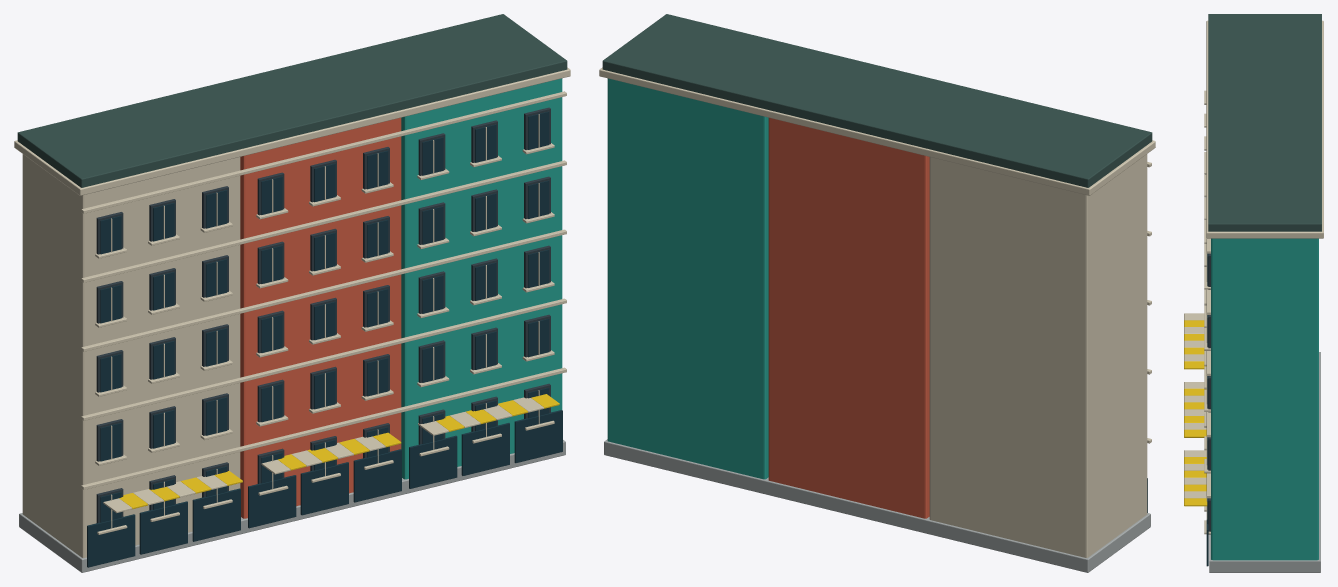
File: boutique-row.glb
3 renders of one model, left to right at view 1: azimuth 30°, elevation 25°; view 2: azimuth 150°, elevation 25°; view 3: azimuth 270°, elevation 25°, orthographic. The views are drawn at different scales.
Parts seen in each view (by area): view 1: DC_Mesh_DC_Ivory, DC_Mesh_DC_BlueGlass, DC_Mesh_DC_Roof, DC_Mesh_DC_Teal, DC_Mesh_DC_Coral, DC_Mesh_DC_Steel, DC_Mesh_DC_Concrete, DC_Mesh_DC_Yellow; view 2: DC_Mesh_DC_Ivory, DC_Mesh_DC_Coral, DC_Mesh_DC_Teal, DC_Mesh_DC_Roof, DC_Mesh_DC_Concrete; view 3: DC_Mesh_DC_Teal, DC_Mesh_DC_Roof, DC_Mesh_DC_Ivory, DC_Mesh_DC_Yellow, DC_Mesh_DC_Concrete, DC_Mesh_DC_Steel, DC_Mesh_DC_BlueGlass.
Boxes of the visible parts, x1=… form: DC_Mesh_DC_Ivory: x1=14, y1=67, x2=570, y2=557; DC_Mesh_DC_BlueGlass: x1=87, y1=111, x2=562, y2=567; DC_Mesh_DC_Roof: x1=17, y1=14, x2=567, y2=187; DC_Mesh_DC_Teal: x1=401, y1=78, x2=562, y2=479; DC_Mesh_DC_Coral: x1=240, y1=118, x2=401, y2=518; DC_Mesh_DC_Steel: x1=96, y1=107, x2=550, y2=523; DC_Mesh_DC_Concrete: x1=19, y1=440, x2=565, y2=572; DC_Mesh_DC_Yellow: x1=119, y1=394, x2=559, y2=509; DC_Mesh_DC_Ivory: x1=599, y1=67, x2=1155, y2=557; DC_Mesh_DC_Coral: x1=768, y1=118, x2=929, y2=518; DC_Mesh_DC_Teal: x1=607, y1=78, x2=768, y2=479; DC_Mesh_DC_Roof: x1=602, y1=14, x2=1152, y2=187; DC_Mesh_DC_Concrete: x1=604, y1=439, x2=1150, y2=572; DC_Mesh_DC_Teal: x1=1211, y1=238, x2=1318, y2=560; DC_Mesh_DC_Roof: x1=1208, y1=14, x2=1321, y2=231; DC_Mesh_DC_Ivory: x1=1184, y1=20, x2=1323, y2=534; DC_Mesh_DC_Yellow: x1=1184, y1=320, x2=1207, y2=506; DC_Mesh_DC_Concrete: x1=1209, y1=352, x2=1320, y2=572; DC_Mesh_DC_Steel: x1=1208, y1=253, x2=1210, y2=534; DC_Mesh_DC_BlueGlass: x1=1206, y1=253, x2=1208, y2=566.
Bounding box in the file's own units: 18.6 × 14.29 × 5.18.
